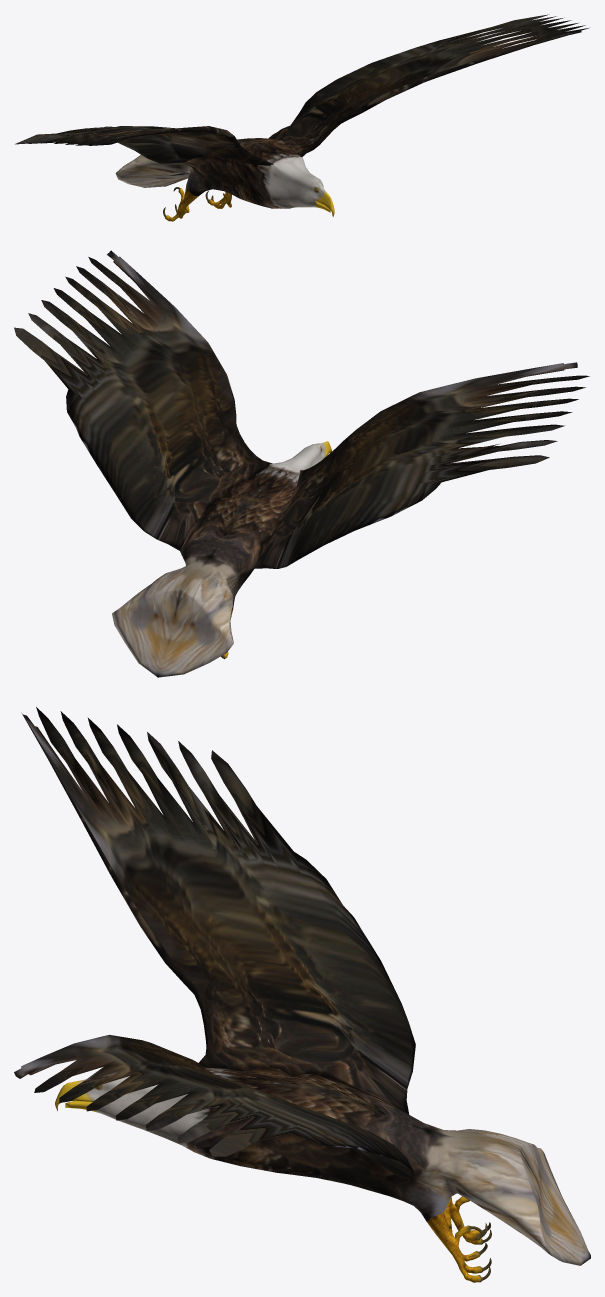
File: Eagle-original_000004.obj
The picture shows the model from 3 angles, top to bottom: view 1: azimuth 30°, elevation 25°; view 2: azimuth 150°, elevation 25°; view 3: azimuth 270°, elevation 25°; orthographic projection. The views are drawn at different scales.
Parts seen in each view (by area): view 1: Flugel_Plane.003; view 2: Flugel_Plane.003; view 3: Flugel_Plane.003.
Boxes of the visible parts, x1,y1,x2,y2 form: Flugel_Plane.003: (15,14,588,221); Flugel_Plane.003: (14,250,589,677); Flugel_Plane.003: (14,707,590,1282).
Size of the model in its own units: 10.33 by 4.39 by 6.22.
Materials: 1 (1 with a texture image).
